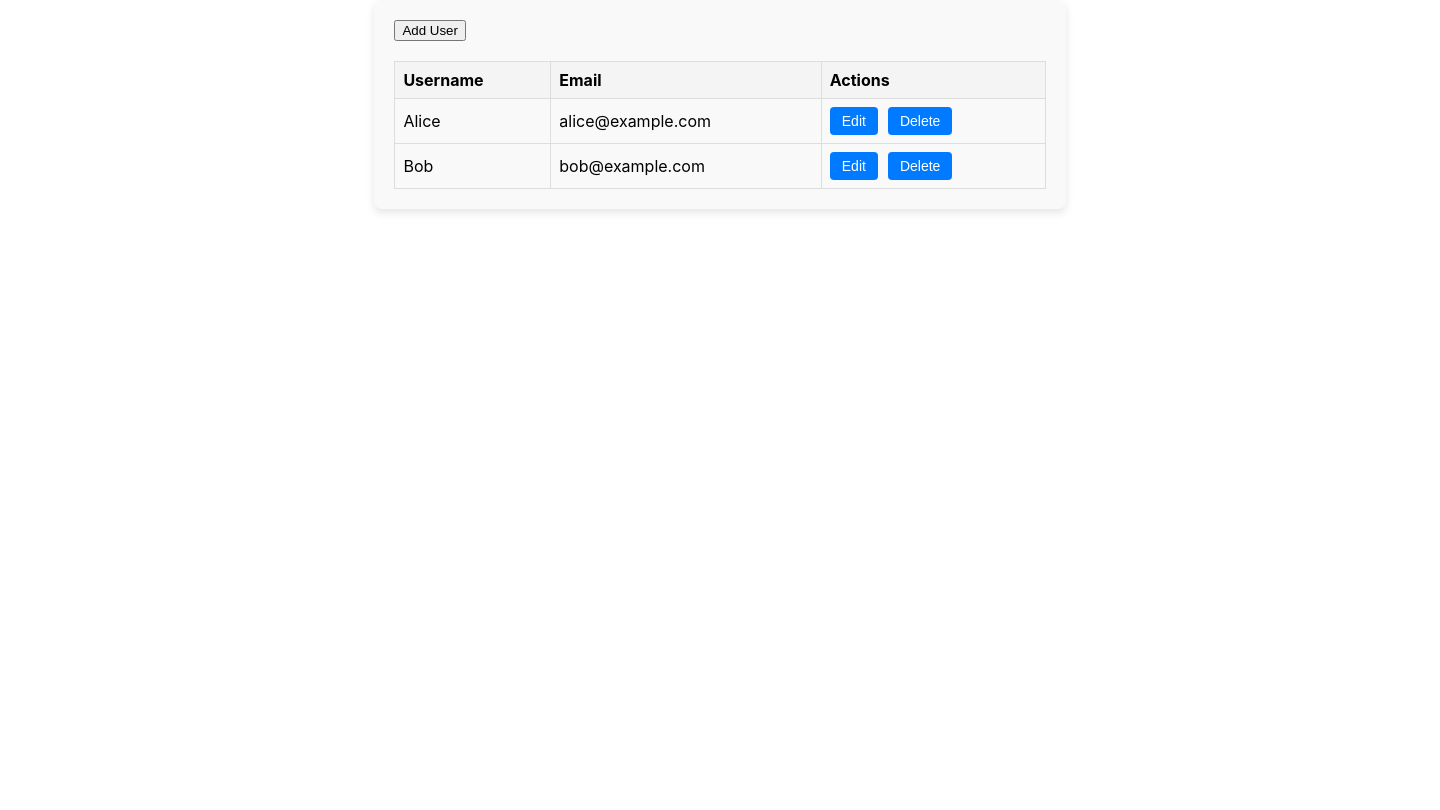
Test: UserList Component › deletes a user
Expected: the text "Alice" is shown, [395, 98, 551, 144]
Click the button "Delete" in the row of "alice@example.com".
click(920, 121)  # box [888, 107, 952, 135]
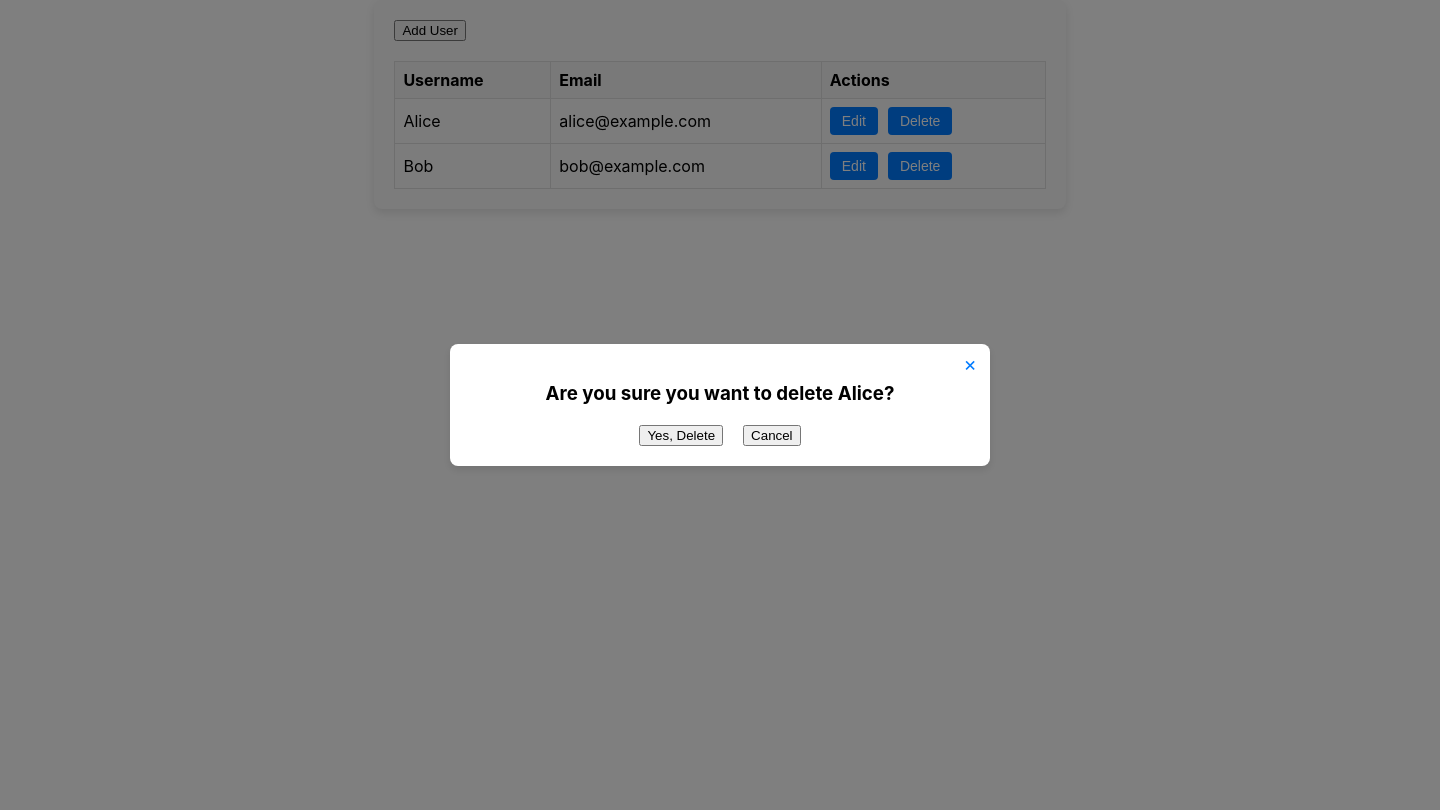
Click the button "Yes, Delete".
click(681, 436)  # box [639, 425, 723, 446]
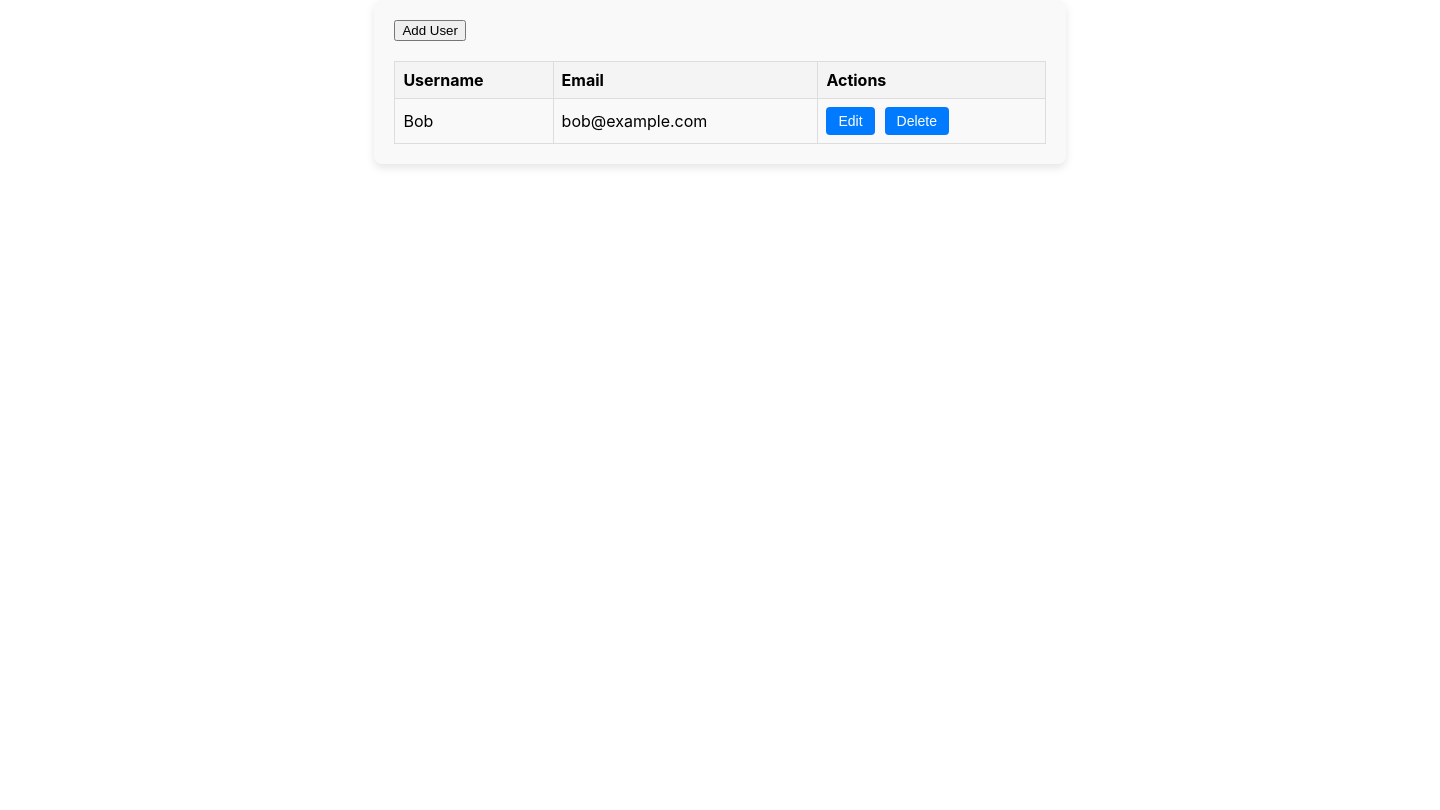
Expected: the heading "Alice" is gone
